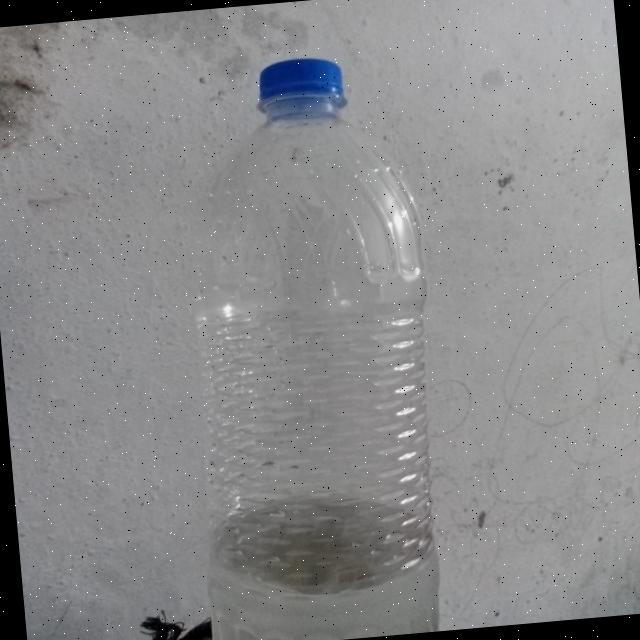bottle: (146, 34, 480, 640)
cap: (244, 39, 362, 128)
